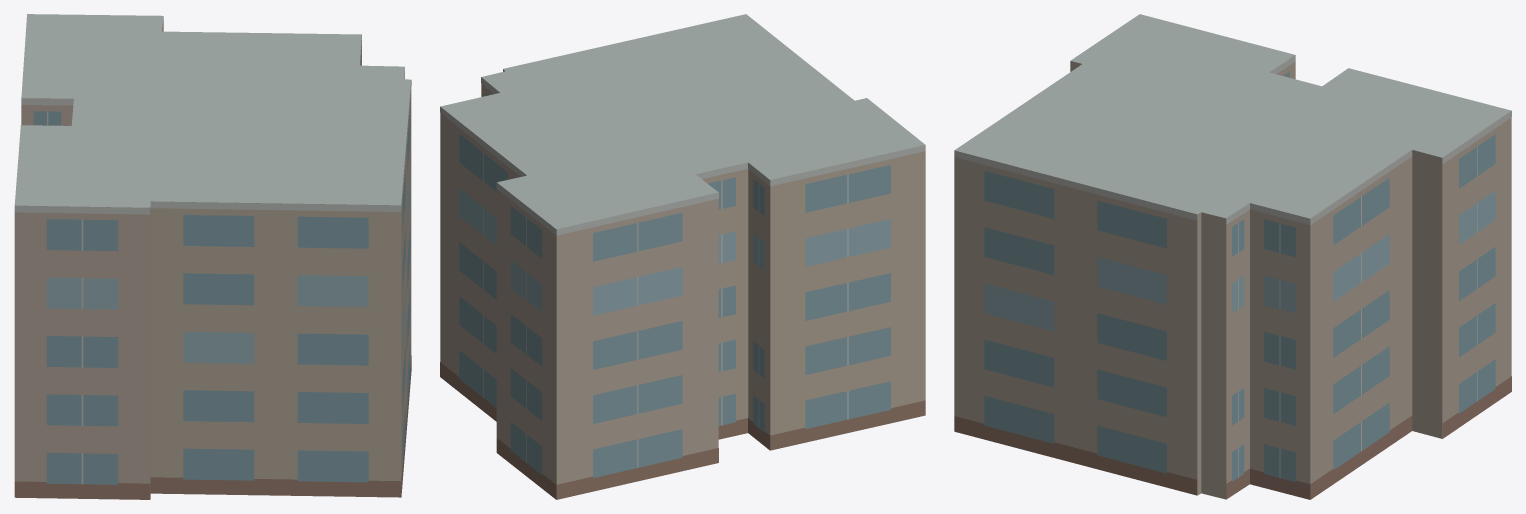
File: survey-upis-33005428.glb
3 renders of one model, left to right at view 1: azimuth 30°, elevation 25°; view 2: azimuth 150°, elevation 25°; view 3: azimuth 270°, elevation 25°, orthographic. The views are drawn at different scales.
Parts seen in each view (by area): view 1: survey-upis-33005428.tmp; view 2: survey-upis-33005428.tmp; view 3: survey-upis-33005428.tmp.
Part boxes in pixels (x1,y1,x2,y2): survey-upis-33005428.tmp: [14, 14, 411, 499]; survey-upis-33005428.tmp: [440, 14, 925, 499]; survey-upis-33005428.tmp: [954, 14, 1511, 499].
Bounding box in the file's own units: 16.4 × 10.5 × 18.87.
